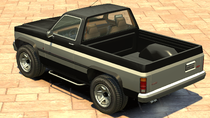car: (11, 4, 205, 113)
